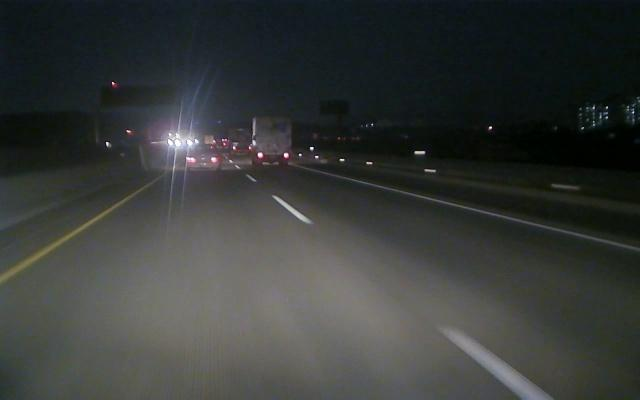lane: (247, 174, 555, 400), (369, 183, 638, 254), (1, 187, 147, 283), (490, 213, 639, 254)
